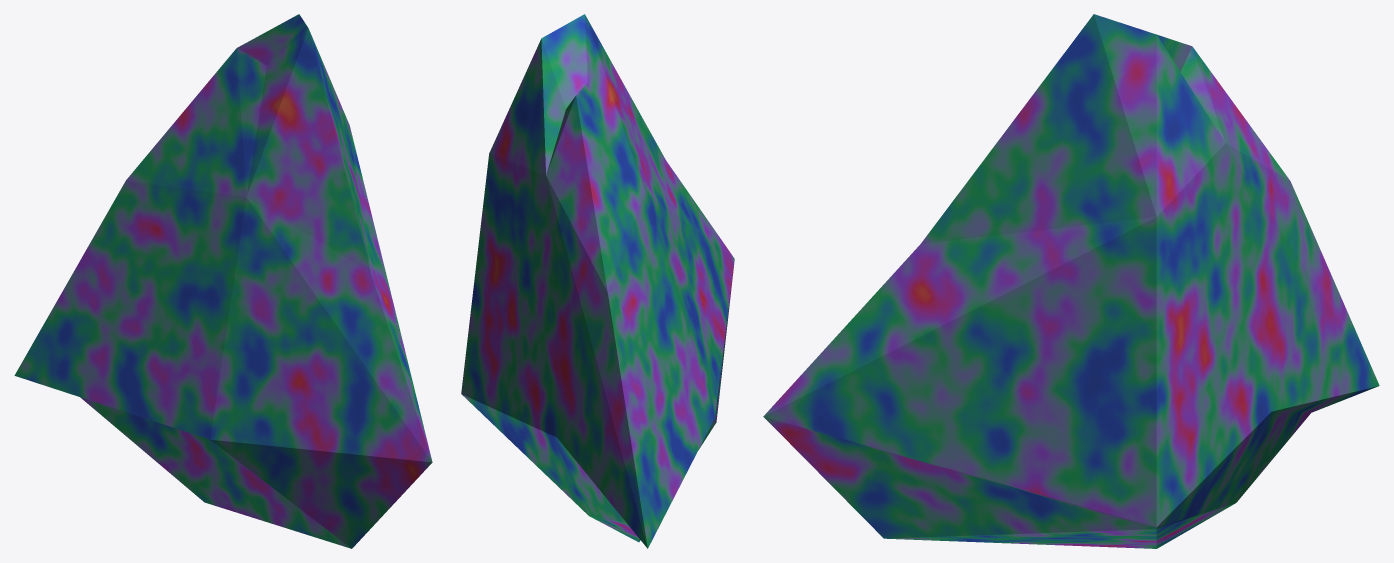
Rendered from SM_Opal_Chipped.fbx.
The picture shows the model from 3 angles, left to right: view 1: azimuth 30°, elevation 25°; view 2: azimuth 150°, elevation 25°; view 3: azimuth 270°, elevation 25°; orthographic projection. The views are drawn at different scales.
Visible parts, largest first — view 1: SM_Opal_Chipped; view 2: SM_Opal_Chipped; view 3: SM_Opal_Chipped.
Part boxes in pixels (x1,y1,x2,y2): SM_Opal_Chipped: (14,14,432,548); SM_Opal_Chipped: (461,14,734,548); SM_Opal_Chipped: (763,14,1379,548).
Bounding box in the file's own units: 10.05 × 16.09 × 16.76.
